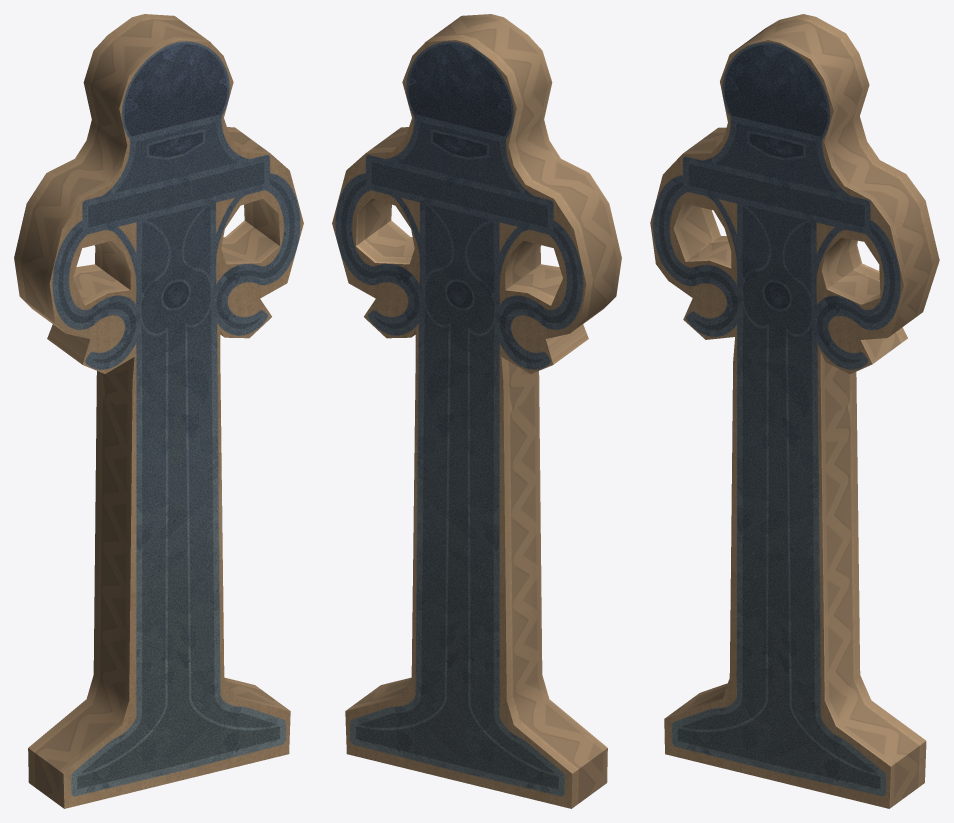
Rendered from SM_Pillar_01.fbx.
3 renders of one model, left to right at view 1: azimuth 30°, elevation 25°; view 2: azimuth 150°, elevation 25°; view 3: azimuth 330°, elevation 25°, orthographic.
Parts seen in each view (by area): view 1: Pilla; view 2: Pilla; view 3: Pilla.
Boxes of the visible parts, <box> form: Pilla: <box>14,14,303,808</box>; Pilla: <box>332,14,621,808</box>; Pilla: <box>650,14,939,808</box>.
Bounding box in the file's own units: 263 × 732 × 63.98.
